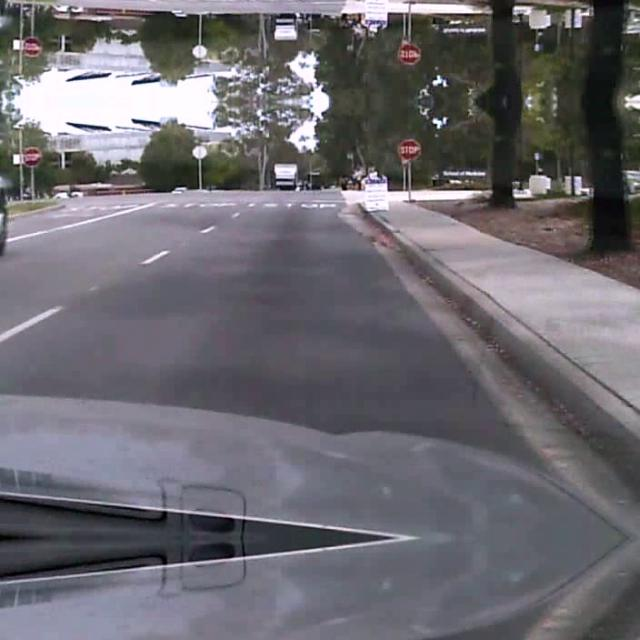stop: (396, 136, 420, 160), (396, 42, 420, 66), (21, 145, 41, 165), (21, 37, 41, 57)
